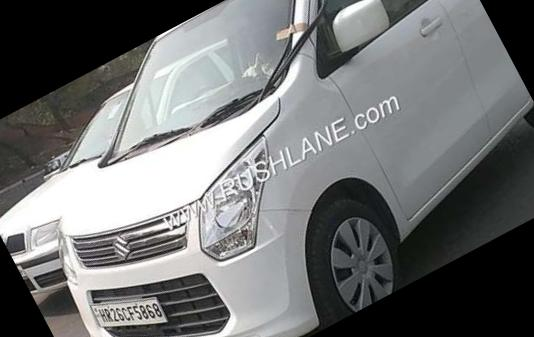plate: (84, 267, 177, 337)
